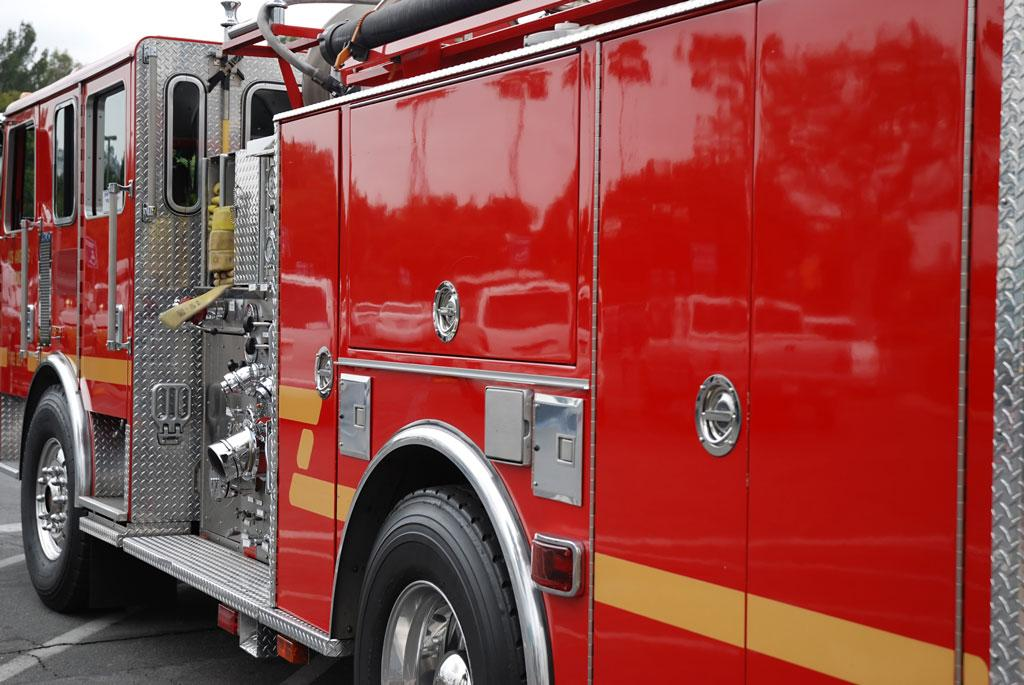Fire-engine: (1, 0, 1021, 683)
